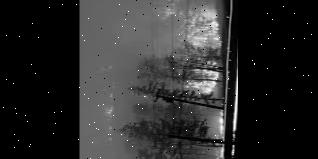fire: (162, 0, 222, 93), (216, 107, 226, 159)
